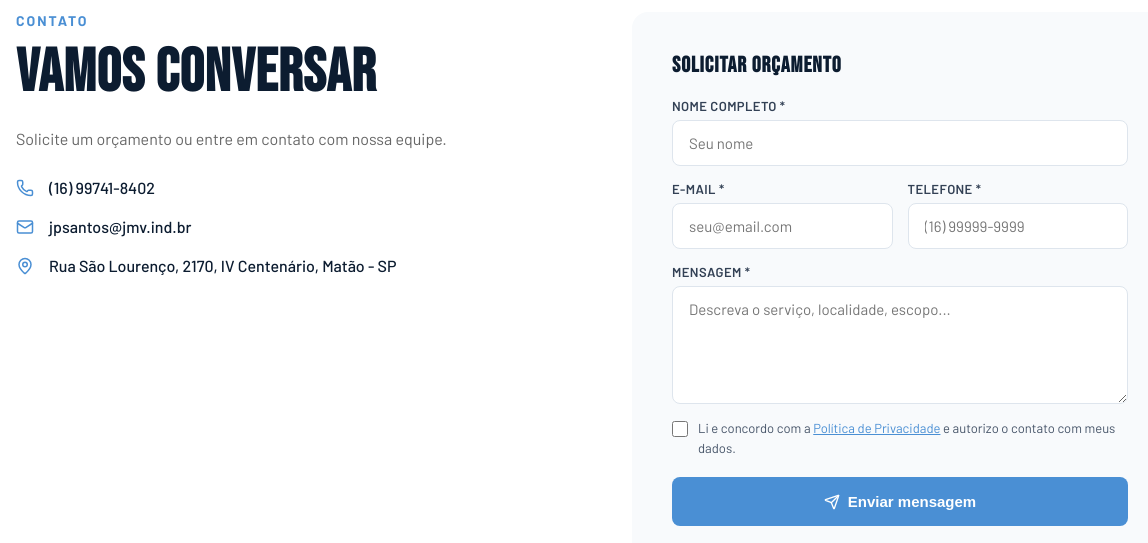
Contact — submit › exibe mensagem de sucesso após envio bem-sucedido
This screenshot has width=1148, height=543.
In the field labelled "Nome completo *": (900, 143) [672,120,1128,166], type "João Silva"
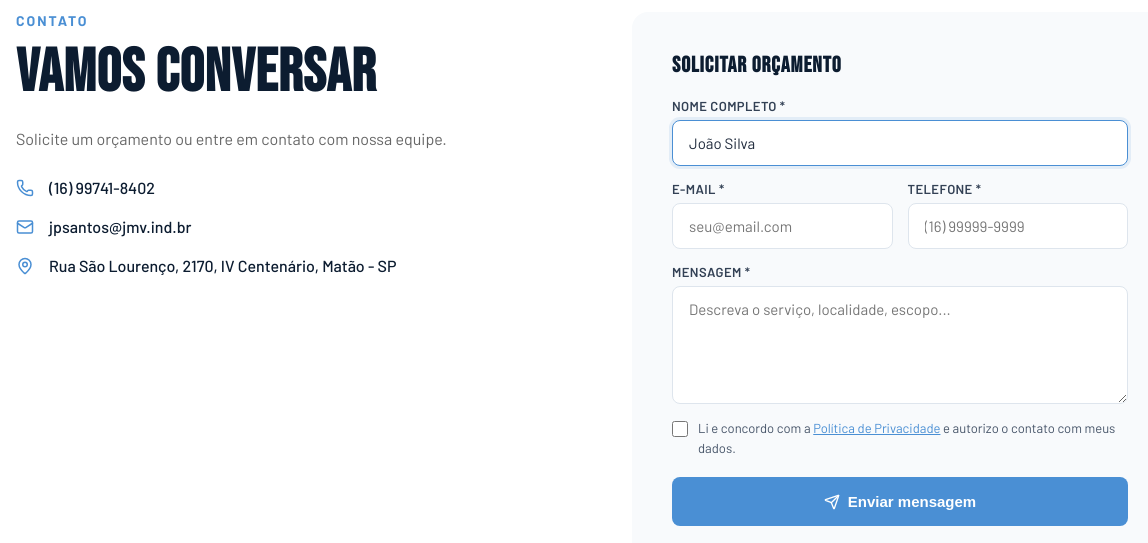
In the field labelled "E-mail *": (782, 226) [672,203,892,249], type "joao@teste.com"
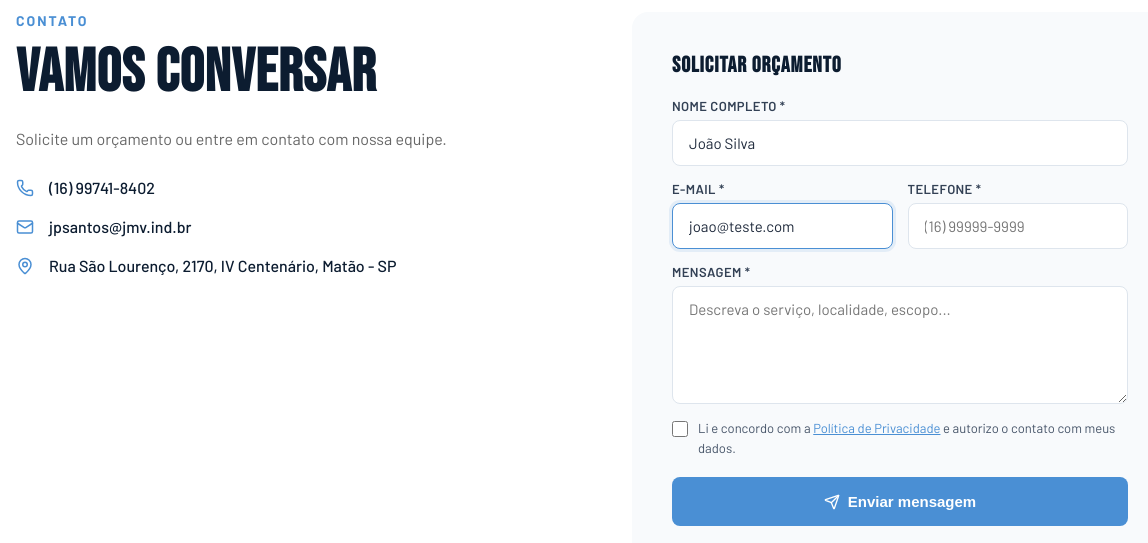
In the field labelled "Telefone *": (1018, 226) [908,203,1128,249], type "16999999999"
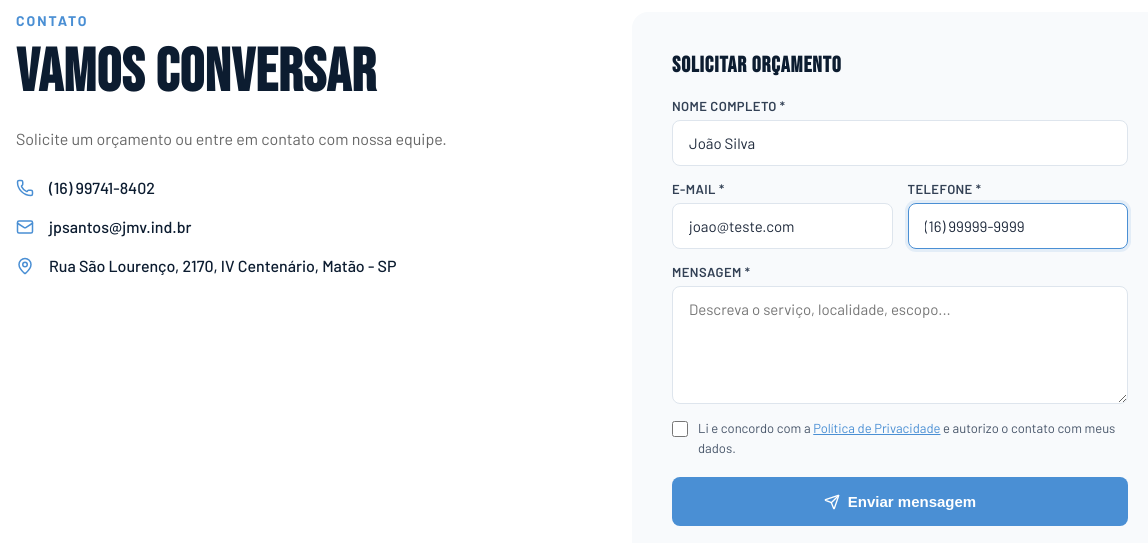
In the text box labelled "Mensagem *": (900, 345) [672,286,1128,404], type "Preciso de um orçamento"
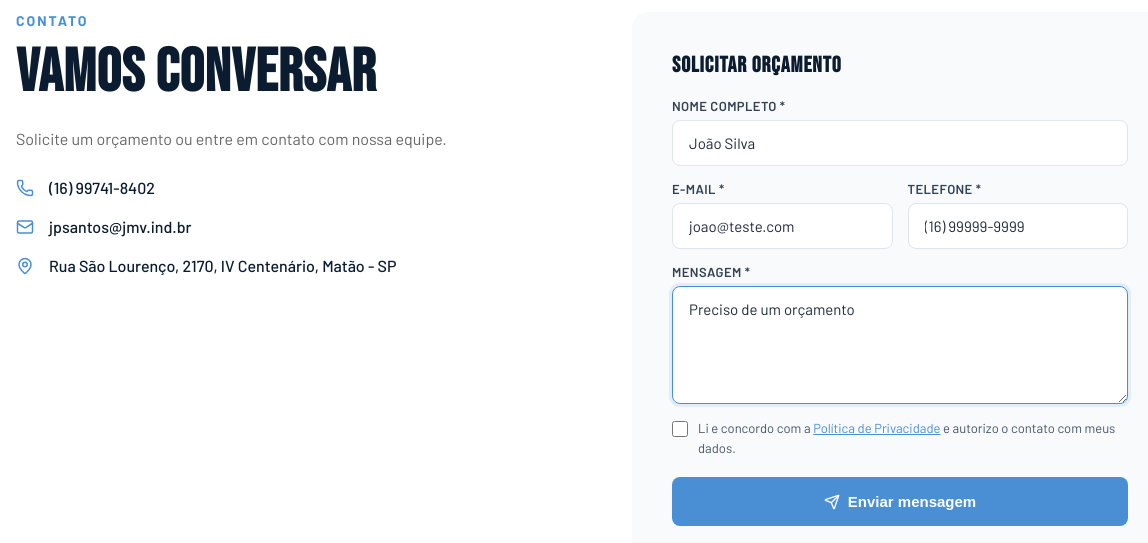
Click the checkbox: (680, 429) [672,421,688,437]
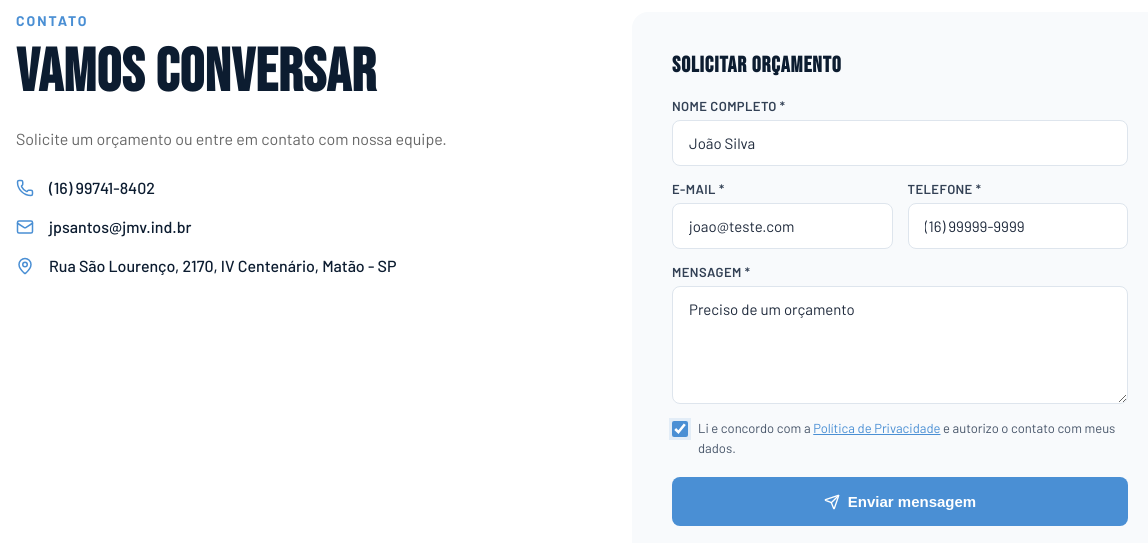
Click the button "Enviar mensagem": (900, 502) [672,477,1128,526]
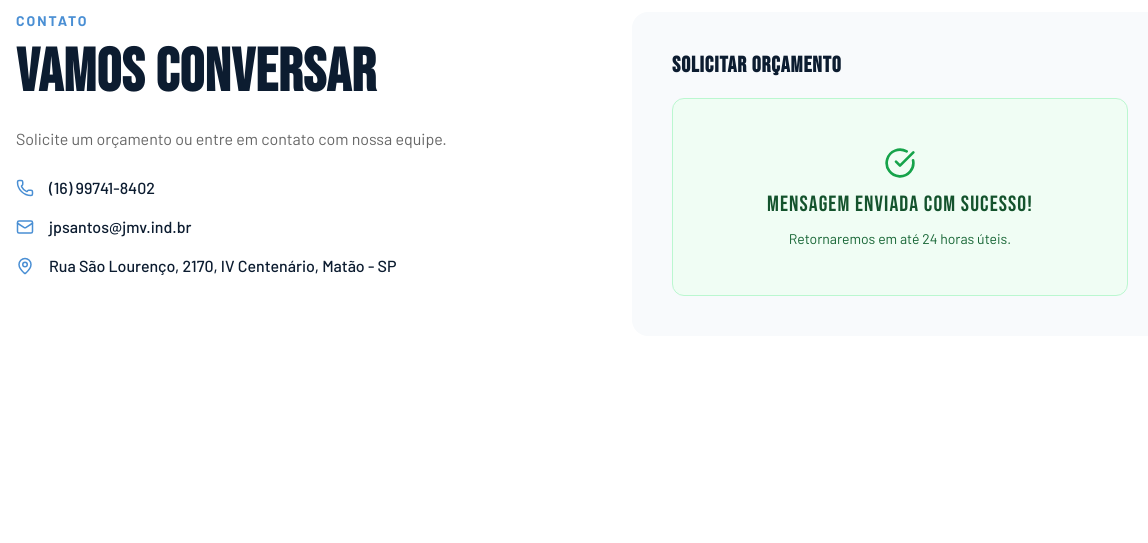
Now the text "Mensagem enviada com sucesso!" is shown, box [767,191,1033,218]
